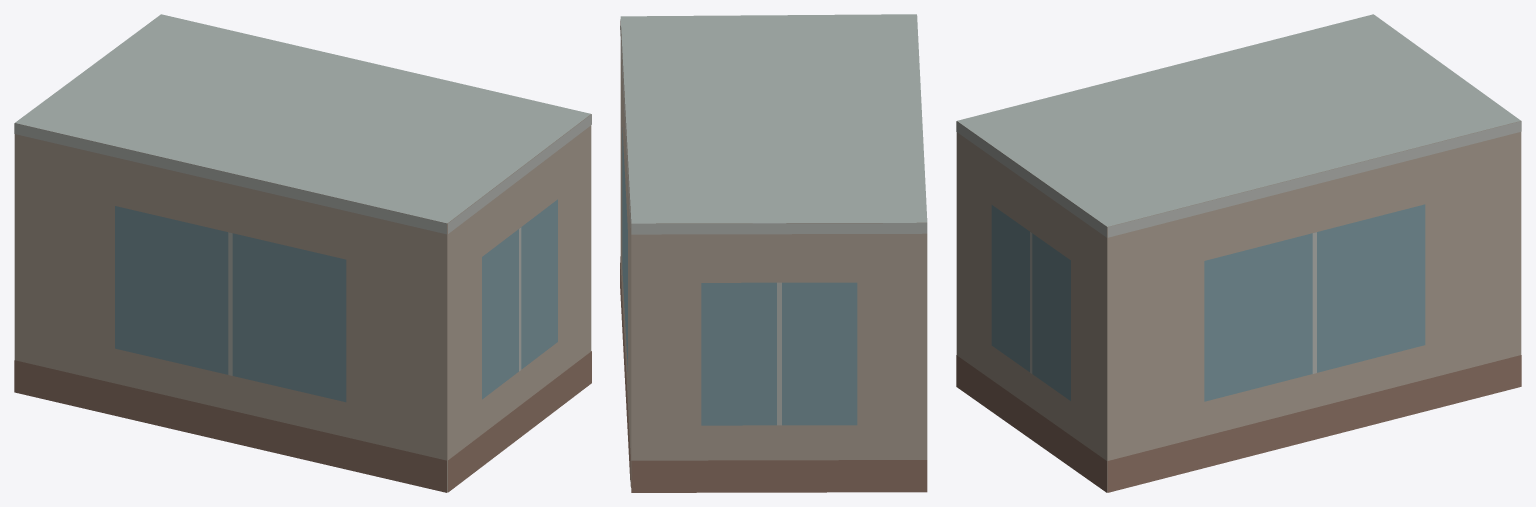
File: survey-upis-32777202.glb
The picture shows the model from 3 angles, left to right: view 1: azimuth 30°, elevation 25°; view 2: azimuth 150°, elevation 25°; view 3: azimuth 270°, elevation 25°; orthographic projection.
Parts seen in each view (by area): view 1: survey-upis-32777202.tmp; view 2: survey-upis-32777202.tmp; view 3: survey-upis-32777202.tmp.
Part boxes in pixels (<box>): survey-upis-32777202.tmp: <box>14,14,591,492</box>; survey-upis-32777202.tmp: <box>620,14,927,492</box>; survey-upis-32777202.tmp: <box>956,14,1521,492</box>.
Size of the model in its own units: 5.25 by 3.05 by 5.88.
